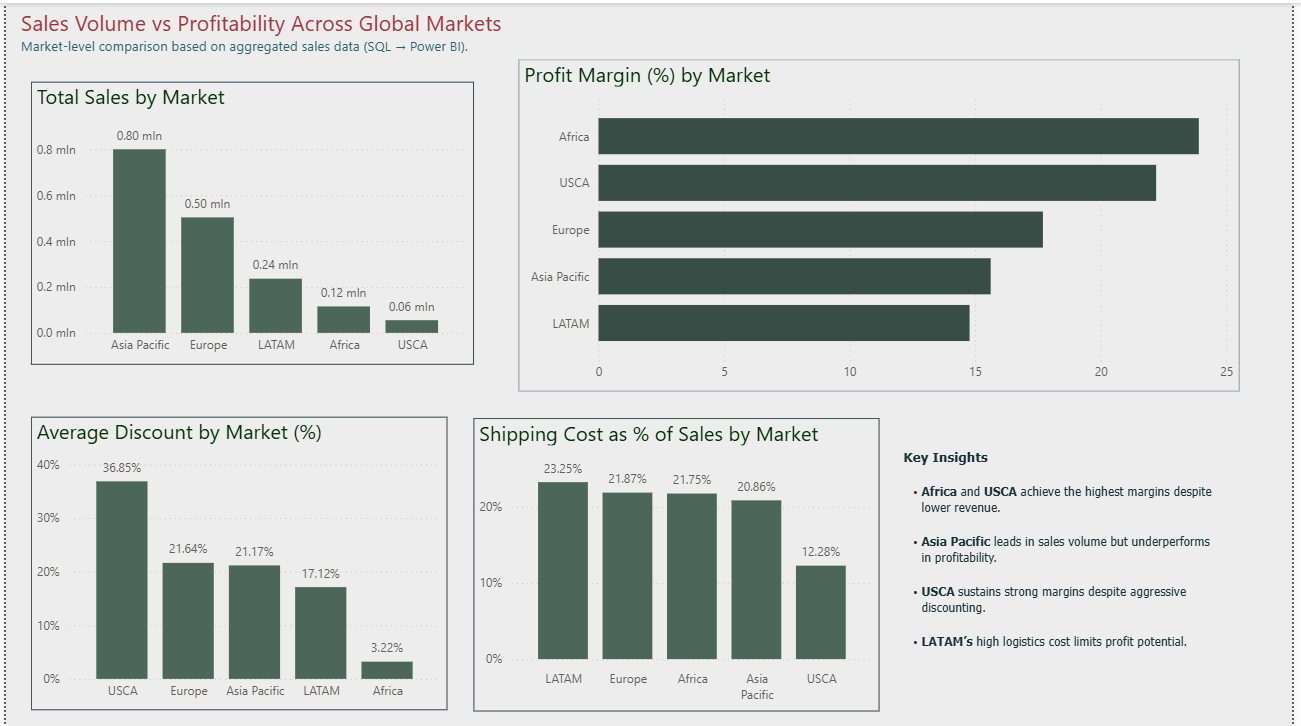

This screenshot's page, from the dashboard's own definition file:
{"tool":"powerbi","page":{"name":"Strona 1","canvas":[1280,720],"ordinal":0},"visuals":[{"type":"barChart","title":"Profit Margin (%) by Market","fields":{"Category":["market_summary.Market"],"Y":["Avg(market_summary.profit_margin_pct)"]},"box":[510.5,56.3,717.7,330.7],"z":0},{"type":"columnChart","title":"Total Sales by Market","fields":{"Category":["market_summary.Market"],"Y":["Sum(market_summary.total_sales)"]},"box":[24.7,78.2,440.5,281.3],"z":1000},{"type":"columnChart","title":"Average Discount by Market (%)","fields":{"Category":["market_summary.Market"],"Y":["Sum(market_summary.avg_discount_pct)"]},"box":[24.7,411.7,414.4,292.3],"z":2000},{"type":"columnChart","title":"Shipping Cost as % of Sales by Market","fields":{"Category":["market_summary.Market"],"Y":["CountNonNull(market_summary.shipping_cost_pct)"]},"box":[465.2,413,404.3,292.3],"z":3000},{"type":"textbox","box":[9.6,0,1085.4,56.3],"z":3001},{"type":"textbox","box":[888.2,437.9,339.6,228.9],"z":3002}]}

Visuals, with their boxes in screenshot pixels (x1, y1, x2, y2), scaled from the page's 1280x720 canvas onto the 1301x726 screenshot:
"Profit Margin (%) by Market" barChart: 519:57:1248:390
"Total Sales by Market" columnChart: 25:79:473:362
"Average Discount by Market (%)" columnChart: 25:415:446:710
"Shipping Cost as % of Sales by Market" columnChart: 473:416:884:711
textbox: 10:0:1113:57
textbox: 903:442:1248:672
